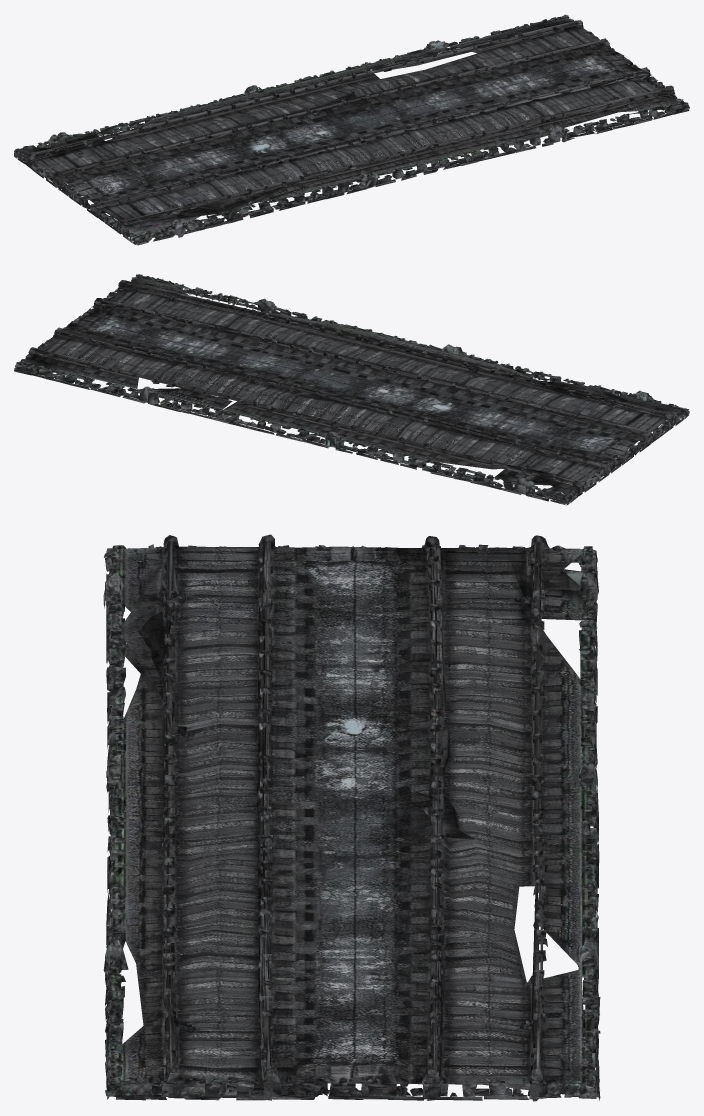
Rendered from cyber-rail-segment.glb.
3 views of the same model, one above another, from view 1: azimuth 30°, elevation 25°; view 2: azimuth 150°, elevation 25°; view 3: azimuth 270°, elevation 25° (orthographic). The views are drawn at different scales.
Visible parts, largest first — view 1: Mesh_0; view 2: Mesh_0; view 3: Mesh_0.
Boxes of the visible parts, x1,y1,x2,y2 form: Mesh_0: (14,14,689,245); Mesh_0: (14,274,689,505); Mesh_0: (103,534,600,1101).
Bounding box in the file's own units: 1.76 × 0.05 × 0.6865.
1 material, 1 textured.
